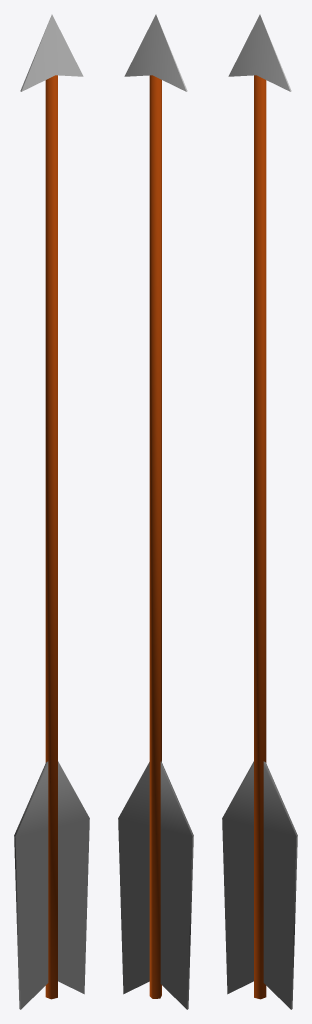
Rendered from arrow.glb.
3 renders of one model, left to right at view 1: azimuth 30°, elevation 25°; view 2: azimuth 150°, elevation 25°; view 3: azimuth 330°, elevation 25°, orthographic.
Visible parts, largest first — view 1: Arrow_4; view 2: Arrow_4; view 3: Arrow_4.
Part boxes in pixels (x1,y1,x2,y2): Arrow_4: [14, 14, 89, 1009]; Arrow_4: [118, 14, 193, 1009]; Arrow_4: [222, 14, 297, 1009].
Bounding box in the file's own units: 0.0588 × 0.7459 × 0.00958.
